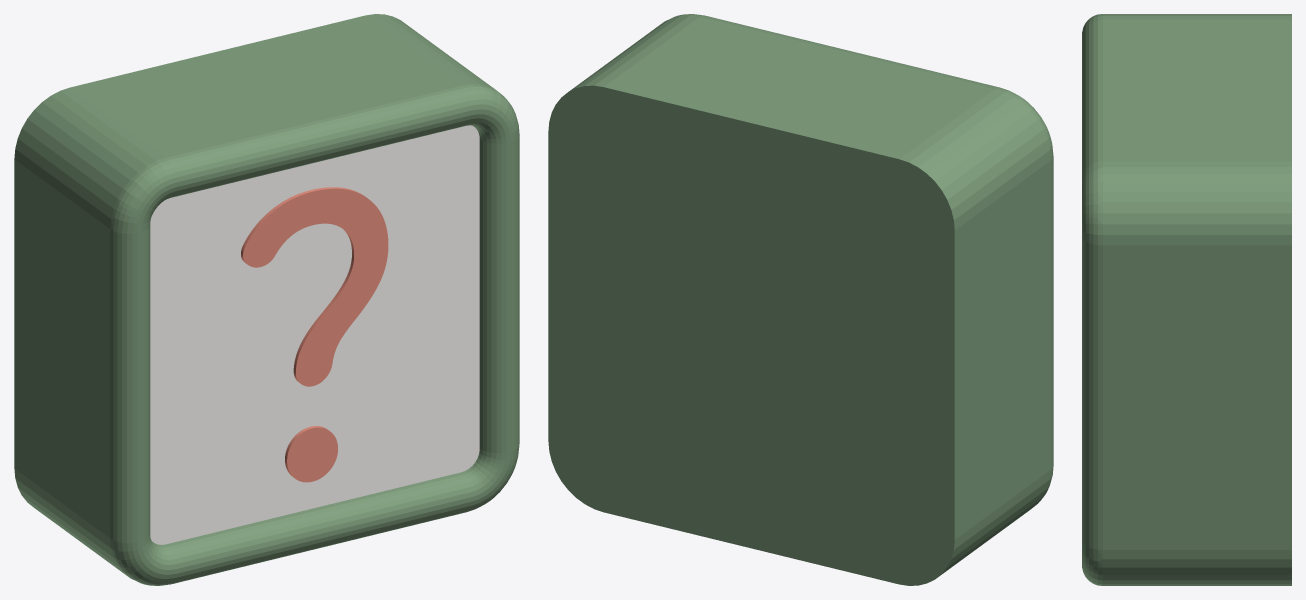
The model's file is unknown-tag-box.glb.
3 renders of one model, left to right at view 1: azimuth 30°, elevation 25°; view 2: azimuth 150°, elevation 25°; view 3: azimuth 270°, elevation 25°, orthographic.
Parts seen in each view (by area): view 1: tag-box-housing, tag-box-inlay, question-mark; view 2: tag-box-housing; view 3: tag-box-housing.
Boxes of the visible parts, x1,y1,x2,y2 form: tag-box-housing: (14, 14, 519, 585); tag-box-inlay: (150, 125, 479, 544); question-mark: (241, 187, 388, 482); tag-box-housing: (548, 14, 1053, 585); tag-box-housing: (1082, 14, 1291, 585).
Bounding box in the file's own units: 44 × 44 × 19.99.
